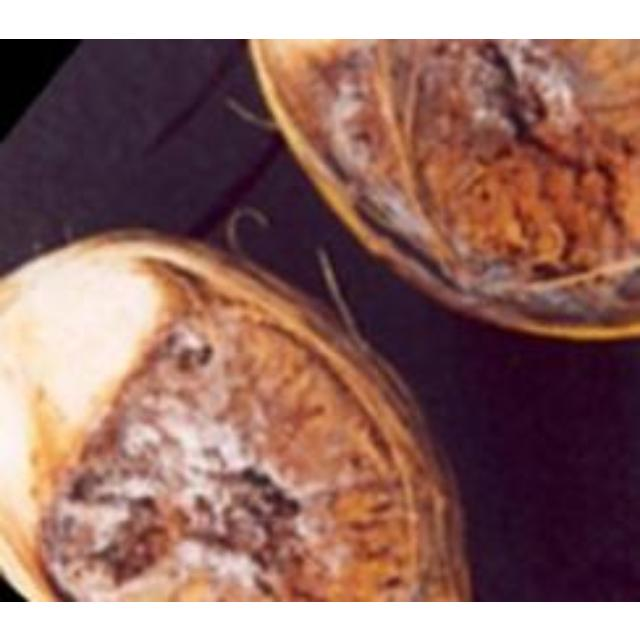damaged: (0, 227, 477, 599), (244, 38, 637, 345)
